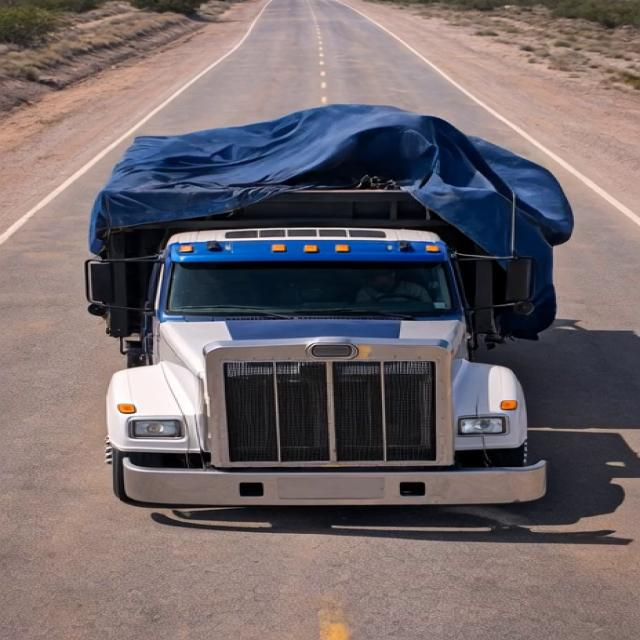Box: (78, 99, 574, 279)
Truck: (48, 89, 588, 524)
